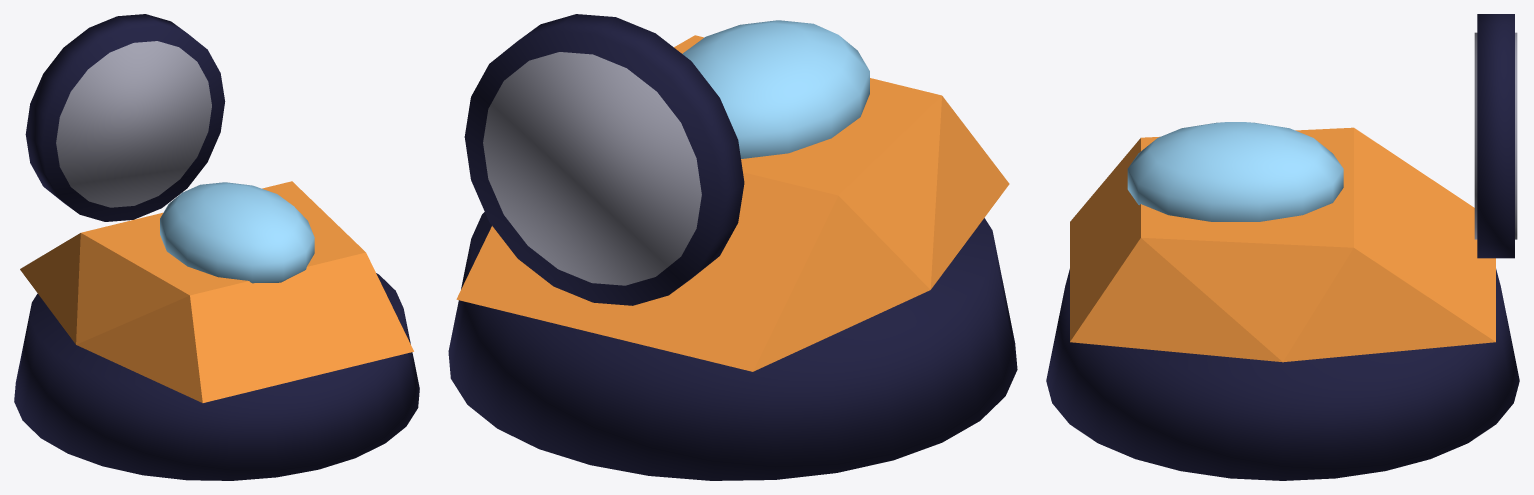
File: Car_Hover.fbx
3 views of the same model, side by side, from view 1: azimuth 30°, elevation 25°; view 2: azimuth 150°, elevation 25°; view 3: azimuth 270°, elevation 25° (orthographic). The views are drawn at different scales.
Parts seen in each view (by area): view 1: Car_Hover; view 2: Car_Hover; view 3: Car_Hover.
Boxes of the visible parts, <box> form: Car_Hover: <box>14,14,419,480</box>; Car_Hover: <box>448,14,1017,480</box>; Car_Hover: <box>1046,14,1519,480</box>.
Size of the model in its own units: 1 by 0.83 by 1.
